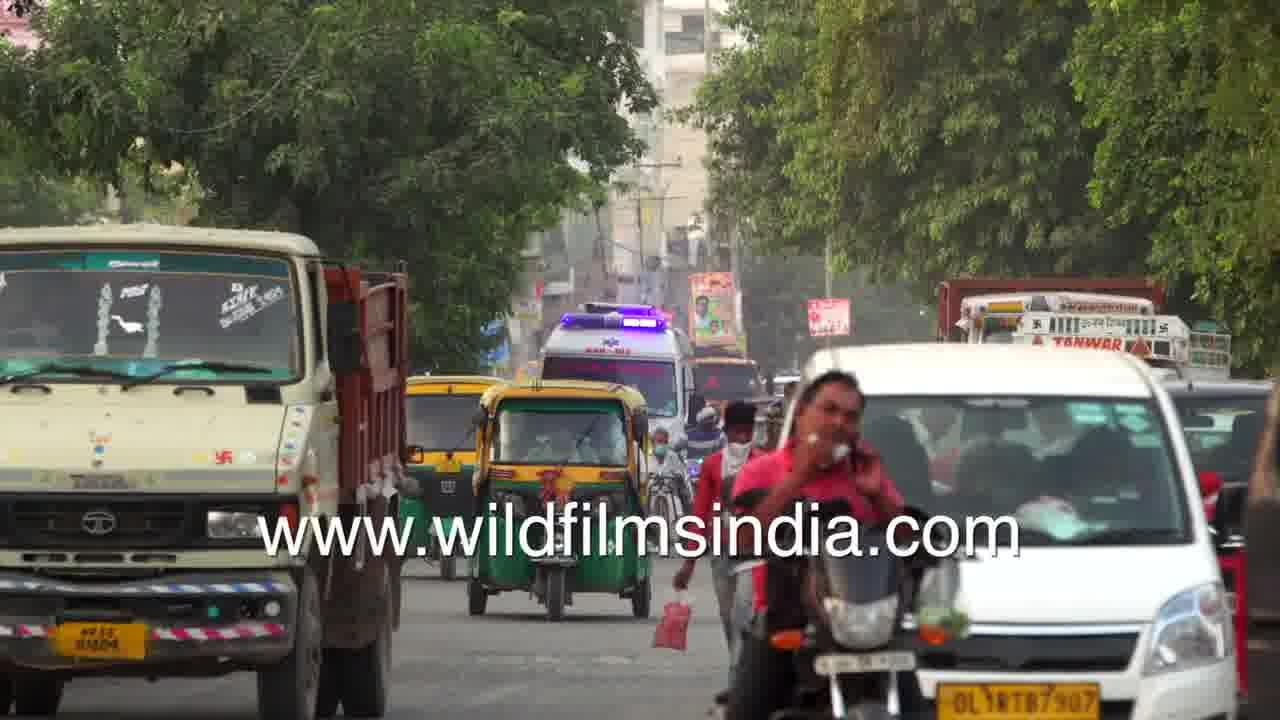AMBULANCE: (540, 305, 696, 393)
